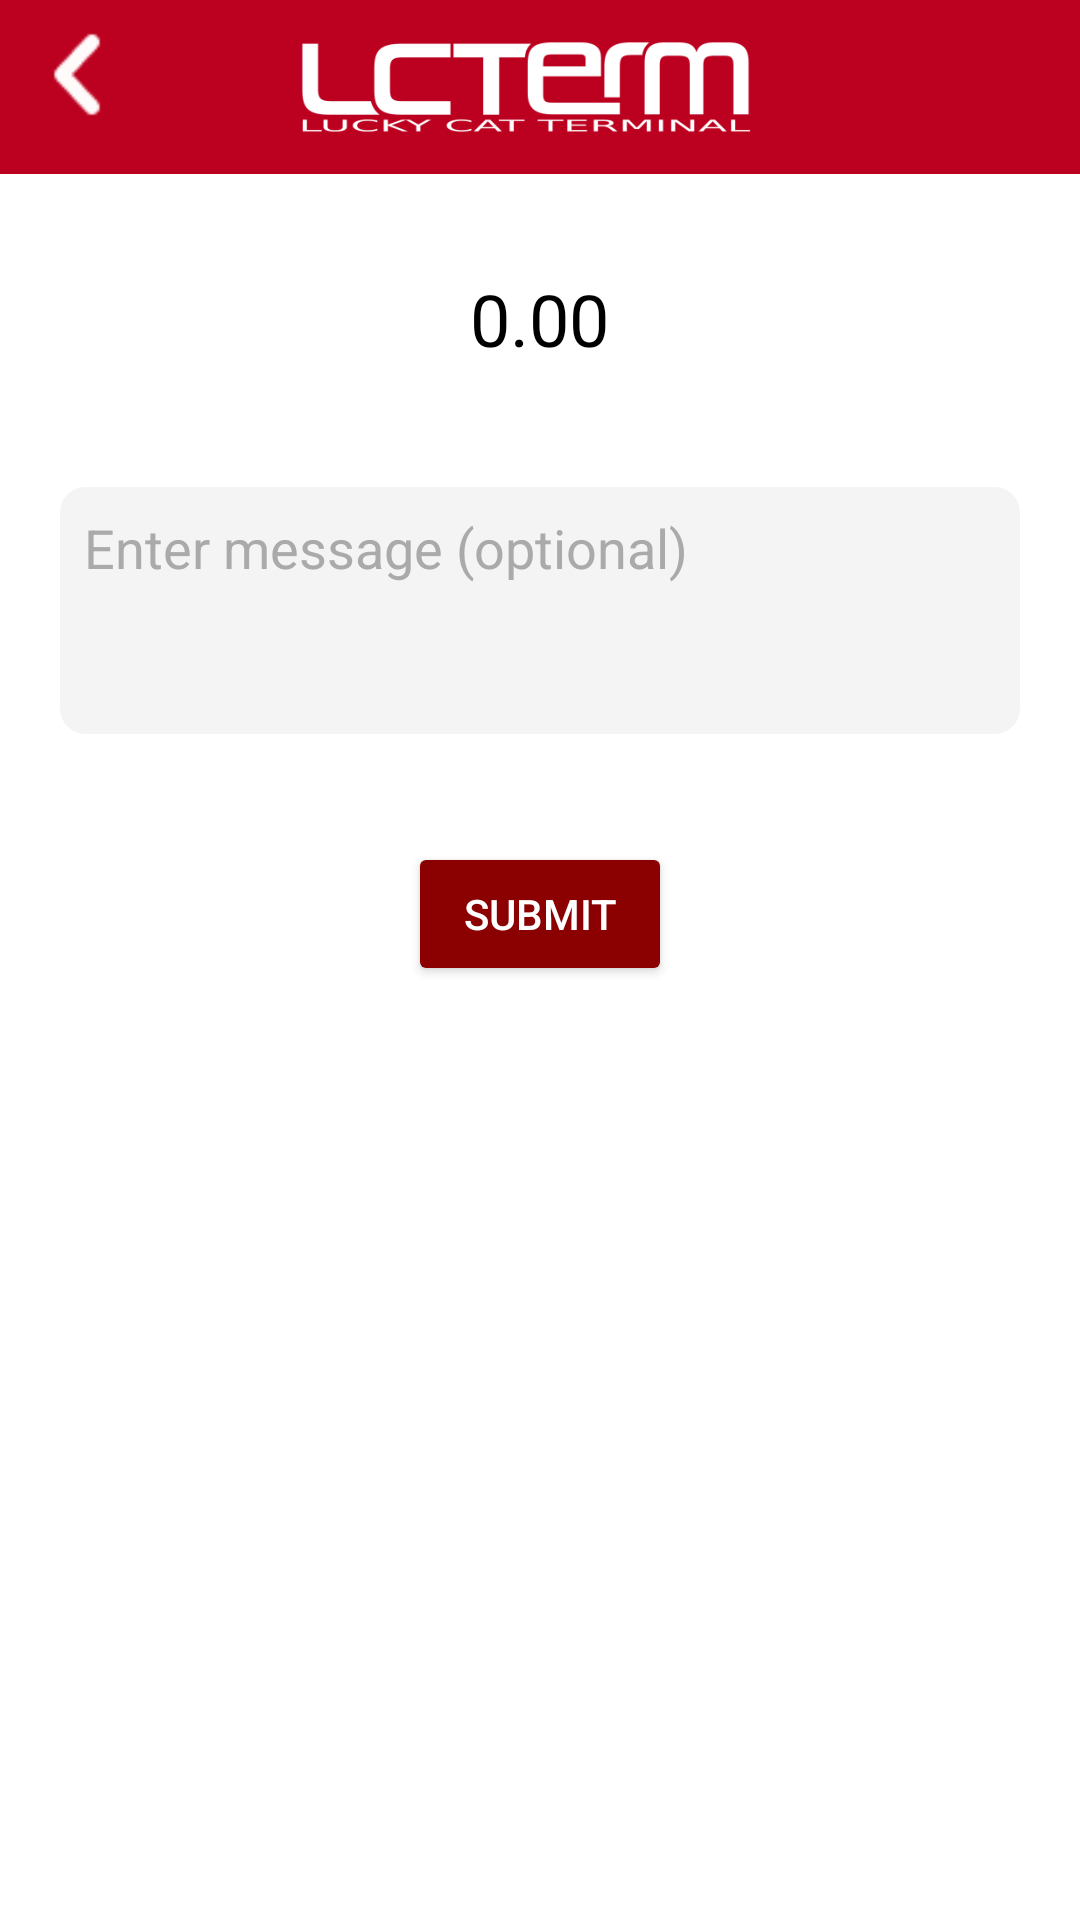

Icon click points for this 1080 x 1920 phone screenshot, format point (x, y):
Back: point (77, 74)
